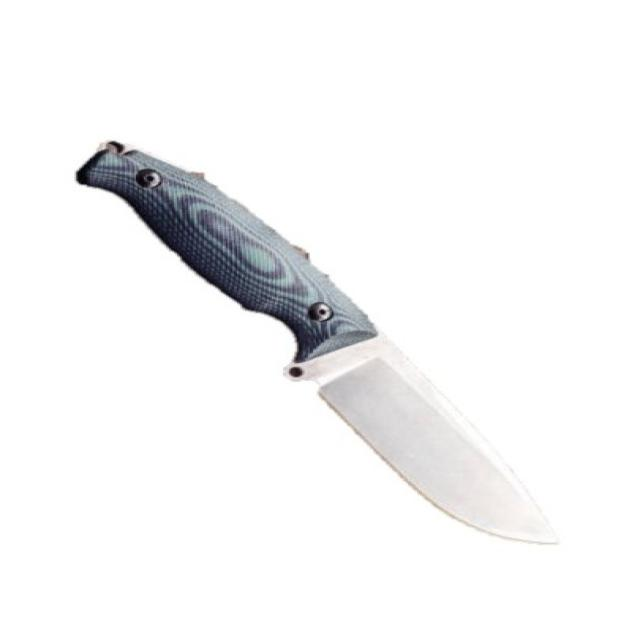knife: (63, 136, 596, 567)
